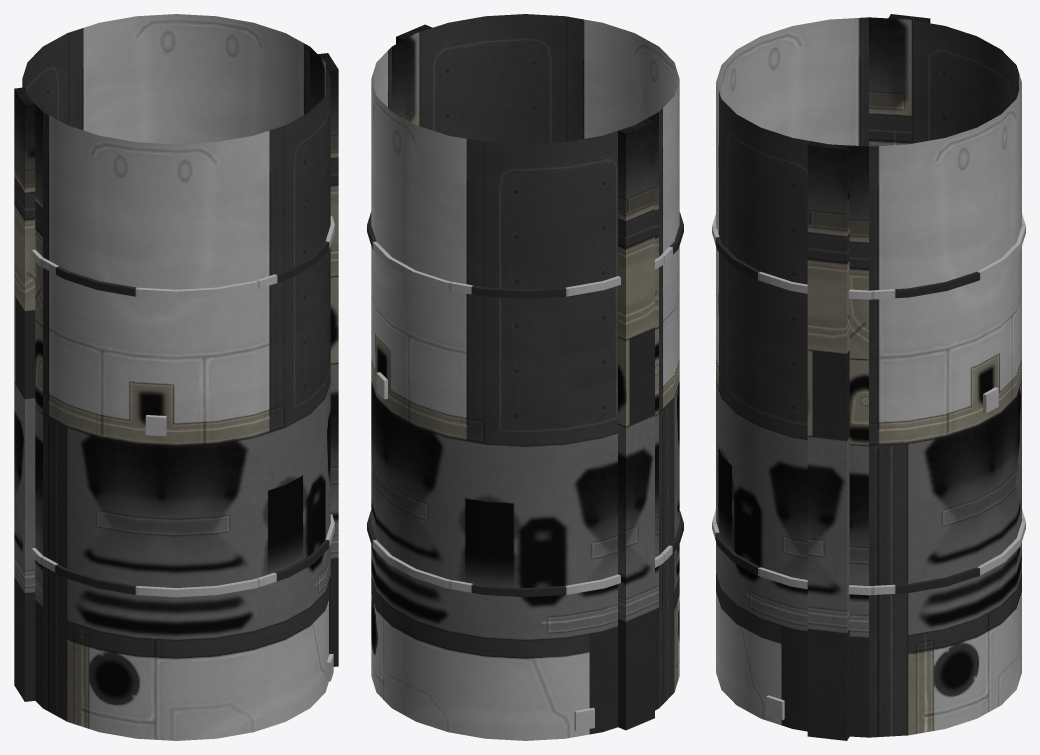
Rendered from fuel tank 4m.obj.
The picture shows the model from 3 angles, left to right: view 1: azimuth 30°, elevation 25°; view 2: azimuth 150°, elevation 25°; view 3: azimuth 270°, elevation 25°; orthographic projection.
Visible parts, largest first — view 1: 1; view 2: 1; view 3: 1.
Boxes of the visible parts, x1,y1,x2,y2 form: 1: [14, 14, 338, 740]; 1: [367, 14, 683, 740]; 1: [712, 14, 1025, 740].
Size of the model in its own units: 1.97 by 4 by 1.92.
